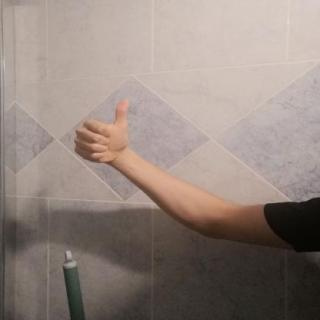ALIF: (68, 92, 144, 169)
